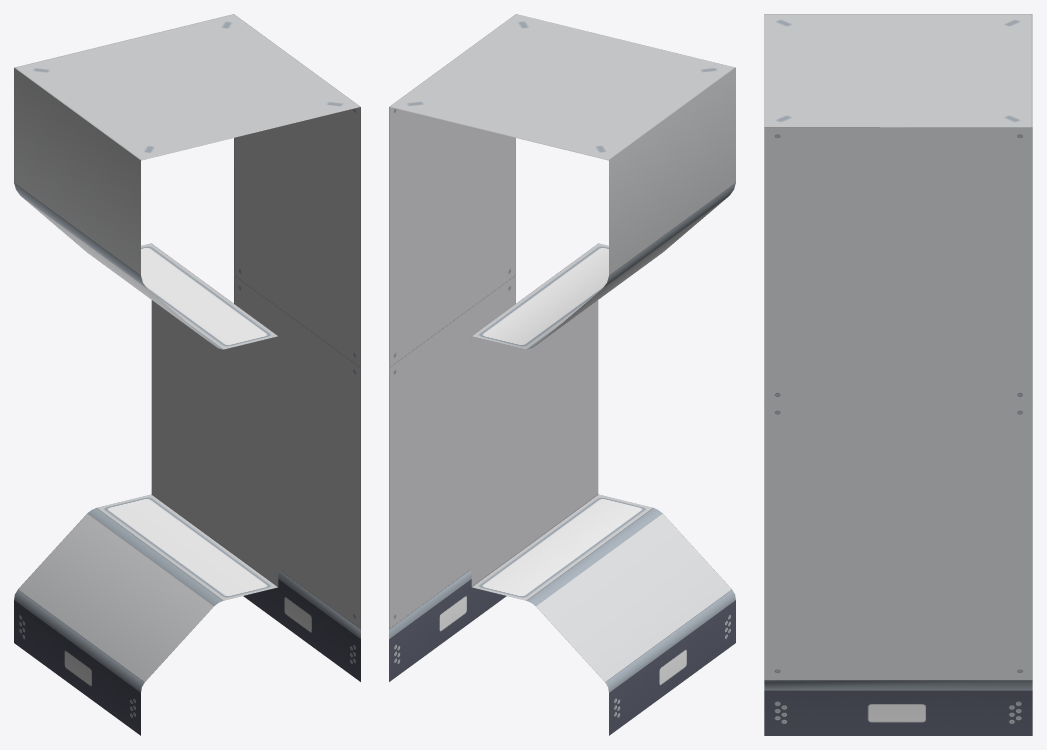
The model's file is Wall_Coin_Simple_06_LP.FBX.
3 renders of one model, left to right at view 1: azimuth 30°, elevation 25°; view 2: azimuth 150°, elevation 25°; view 3: azimuth 270°, elevation 25°, orthographic. The views are drawn at different scales.
Parts seen in each view (by area): view 1: Wall_Coin_Simple_06_LP; view 2: Wall_Coin_Simple_06_LP; view 3: Wall_Coin_Simple_06_LP.
Part boxes in pixels (<box>): Wall_Coin_Simple_06_LP: <box>14,14,360,735</box>; Wall_Coin_Simple_06_LP: <box>389,14,735,735</box>; Wall_Coin_Simple_06_LP: <box>764,14,1032,735</box>.
Size of the model in its own units: 2 by 5 by 2.
